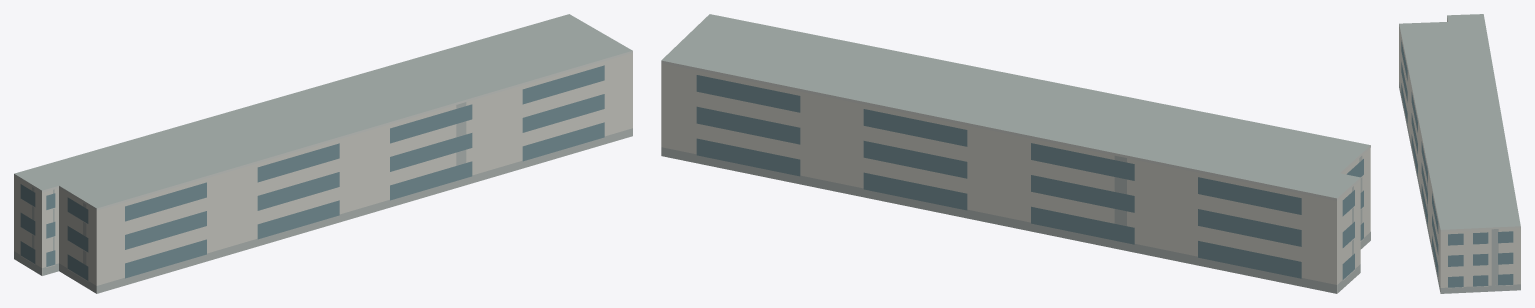
Rendered from survey-upis-32920045.glb.
The picture shows the model from 3 angles, left to right: view 1: azimuth 30°, elevation 25°; view 2: azimuth 150°, elevation 25°; view 3: azimuth 270°, elevation 25°; orthographic projection. The views are drawn at different scales.
Visible parts, largest first — view 1: survey-upis-32920045.tmp; view 2: survey-upis-32920045.tmp; view 3: survey-upis-32920045.tmp.
Boxes of the visible parts, <box> form: survey-upis-32920045.tmp: <box>14,14,632,293</box>; survey-upis-32920045.tmp: <box>661,14,1370,293</box>; survey-upis-32920045.tmp: <box>1399,14,1520,293</box>.
Bounding box in the file's own units: 66.13 × 9.15 × 15.76.
